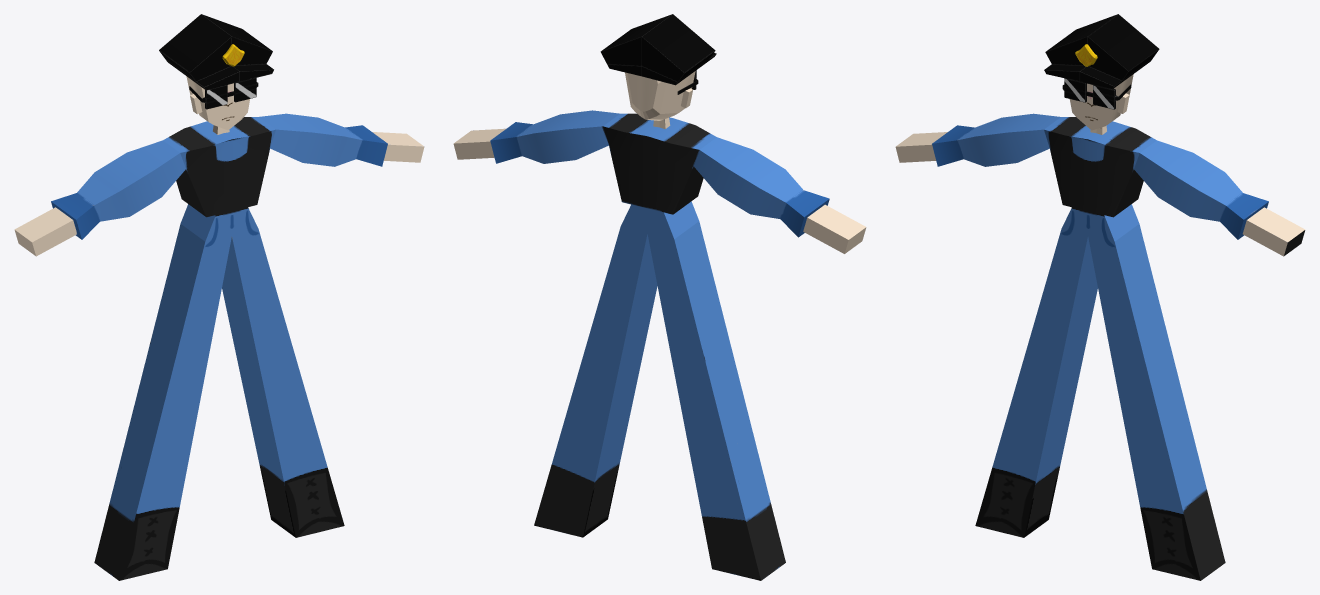
File: VR_ExportedModelForSarahsGame.fbx
3 renders of one model, left to right at view 1: azimuth 30°, elevation 25°; view 2: azimuth 150°, elevation 25°; view 3: azimuth 330°, elevation 25°, orthographic.
Visible parts, largest first — view 1: pCube9; view 2: pCube9; view 3: pCube9.
Boxes of the visible parts, x1,y1,x2,y2 form: pCube9: [14, 14, 424, 580]; pCube9: [453, 14, 866, 580]; pCube9: [895, 14, 1305, 580].
Size of the model in its own units: 11.19 by 14.09 by 1.91.
Materials: 5 (5 with a texture image).
